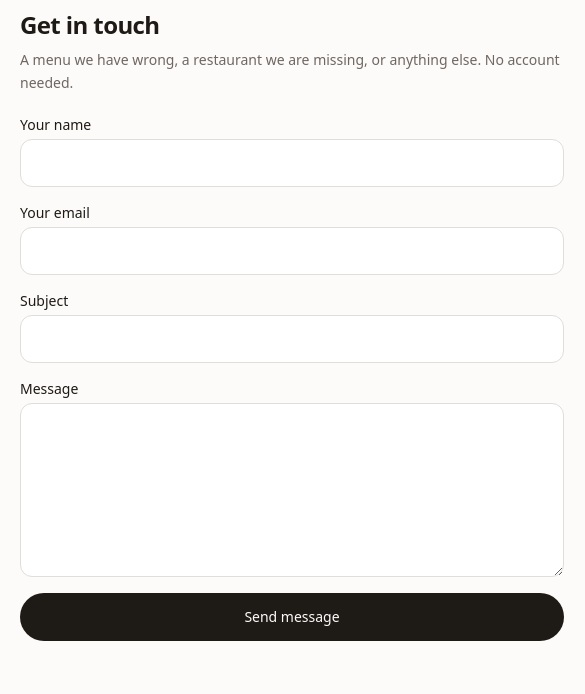
ContactPage › shows the server's refusal verbatim
The image size is (585, 694).
Expected: the button "Send message" is shown, [20,592,564,640]
In the field labelled "Your name": coordinates (292, 162) [20,138,564,186], type "Luis"
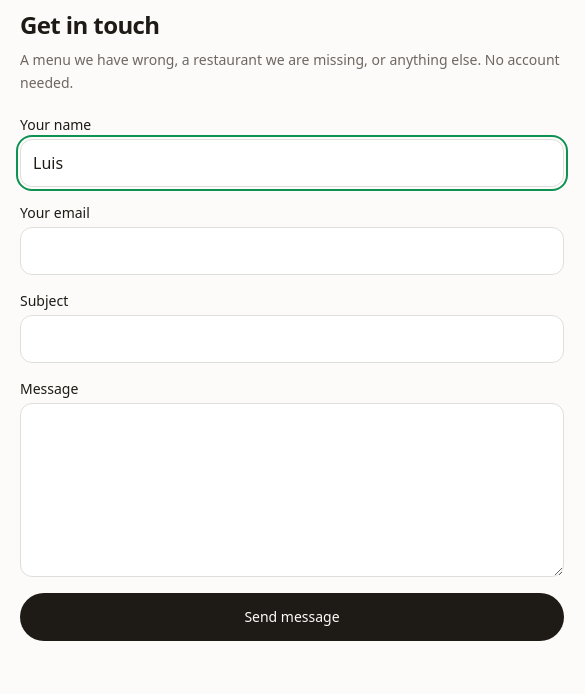
In the field labelled "Your email": coordinates (292, 250) [20,226,564,274], type "luis@example.invalid"
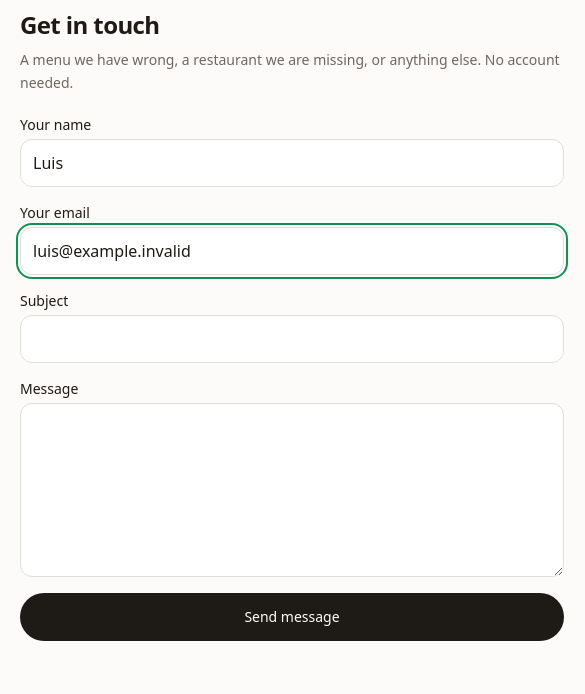
In the field labelled "Subject": coordinates (292, 338) [20,314,564,362], type "A missing restaurant"
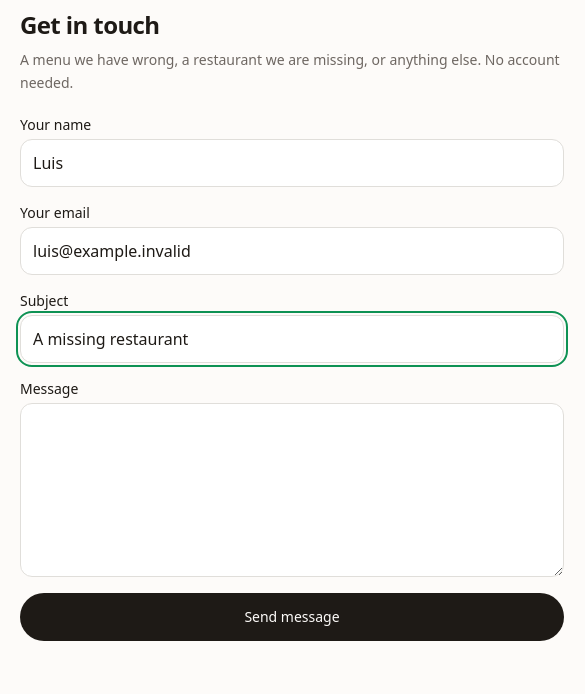
In the text box labelled "Message": coordinates (292, 490) [20,402,564,576], type "There is a dumpling place on Main Street you are missing."
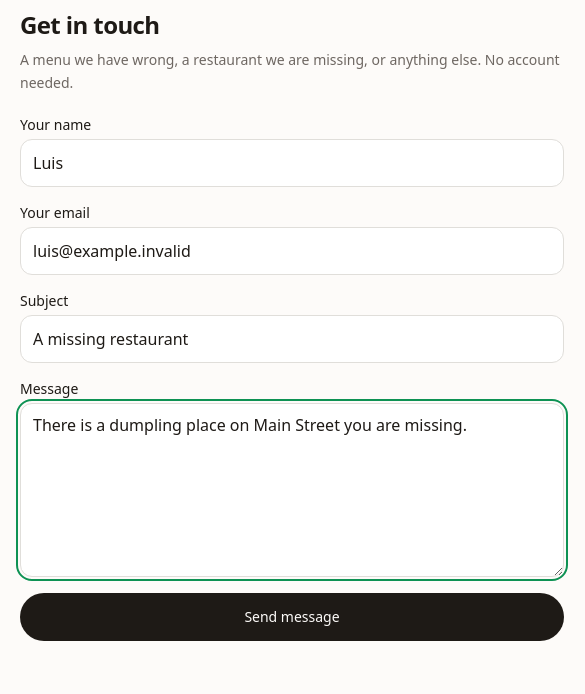
Click the button "Send message": coordinates (292, 616) [20,592,564,640]
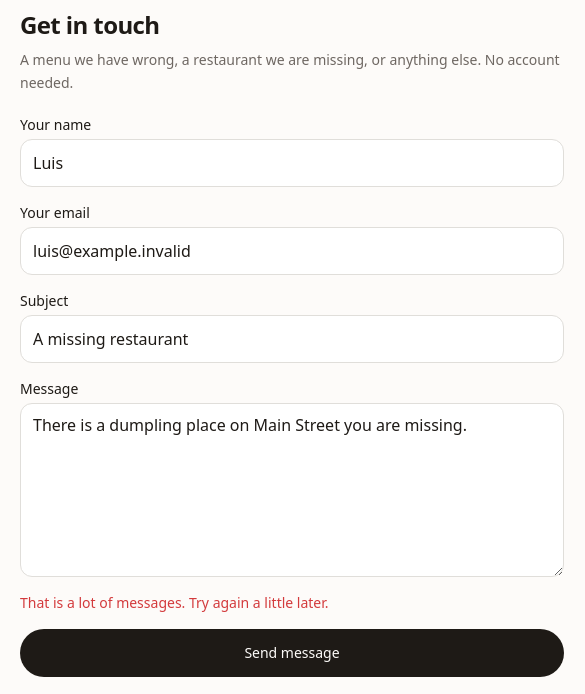
Expected: the message shows "lot of messages", [20,592,328,612]
